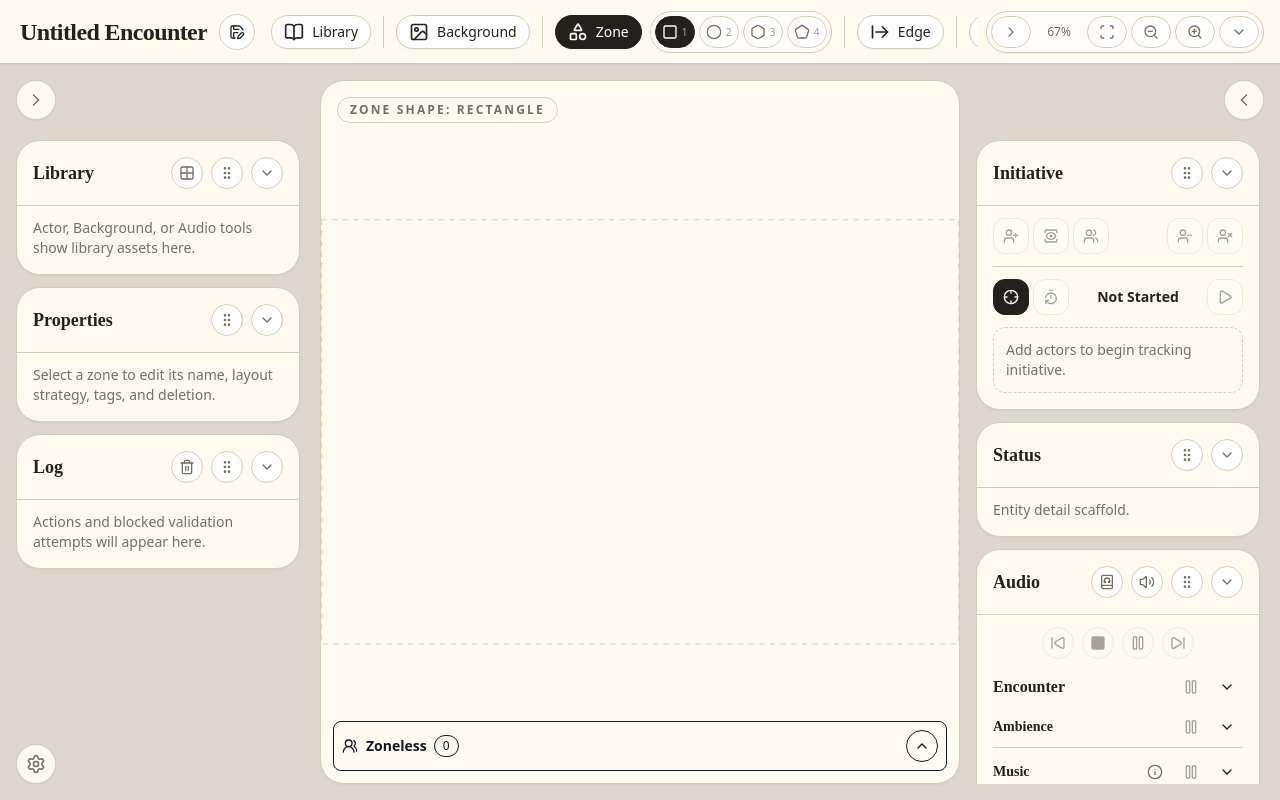
Scenario: LibraryPanel › hands a double-clicked token from the modal to the focused Actor library panel
Click the button "Library": point(321, 32) [271, 14, 371, 48]
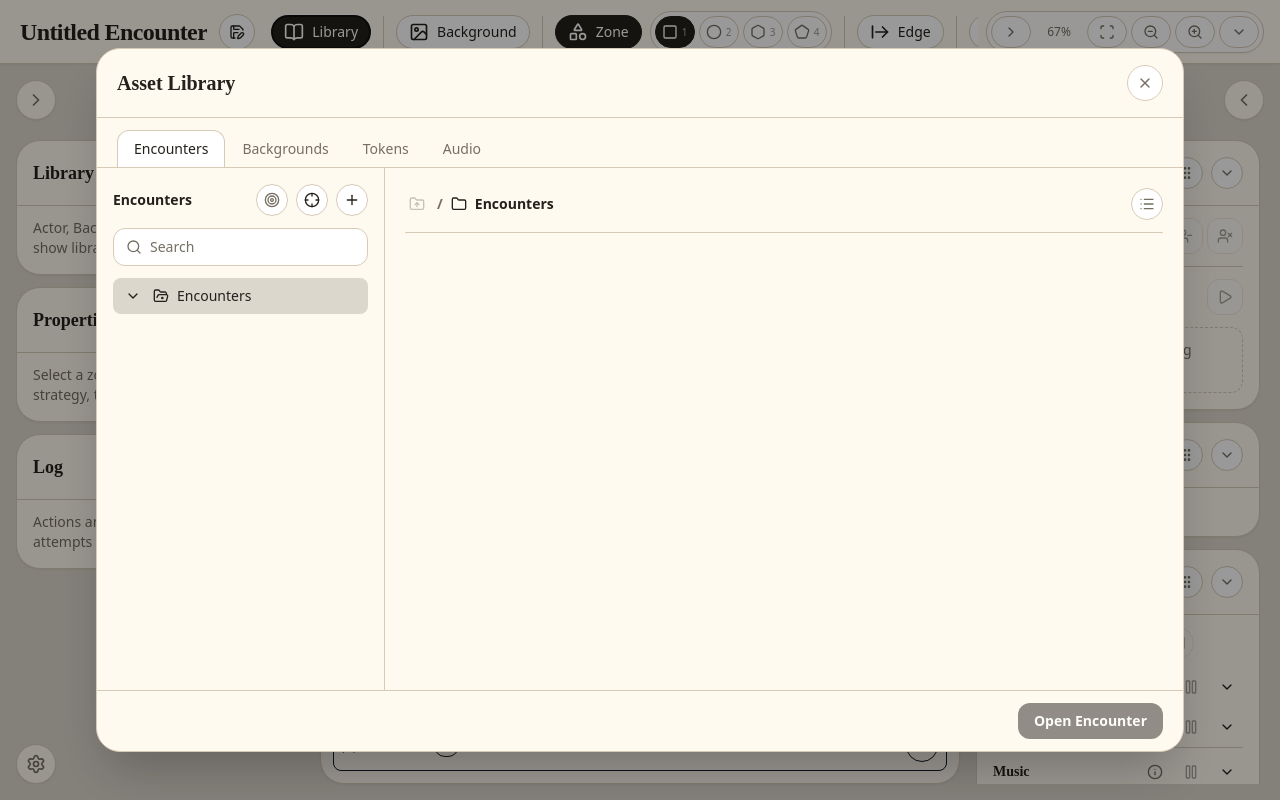
Click the tab "Tokens": point(386, 148) [346, 130, 426, 167]
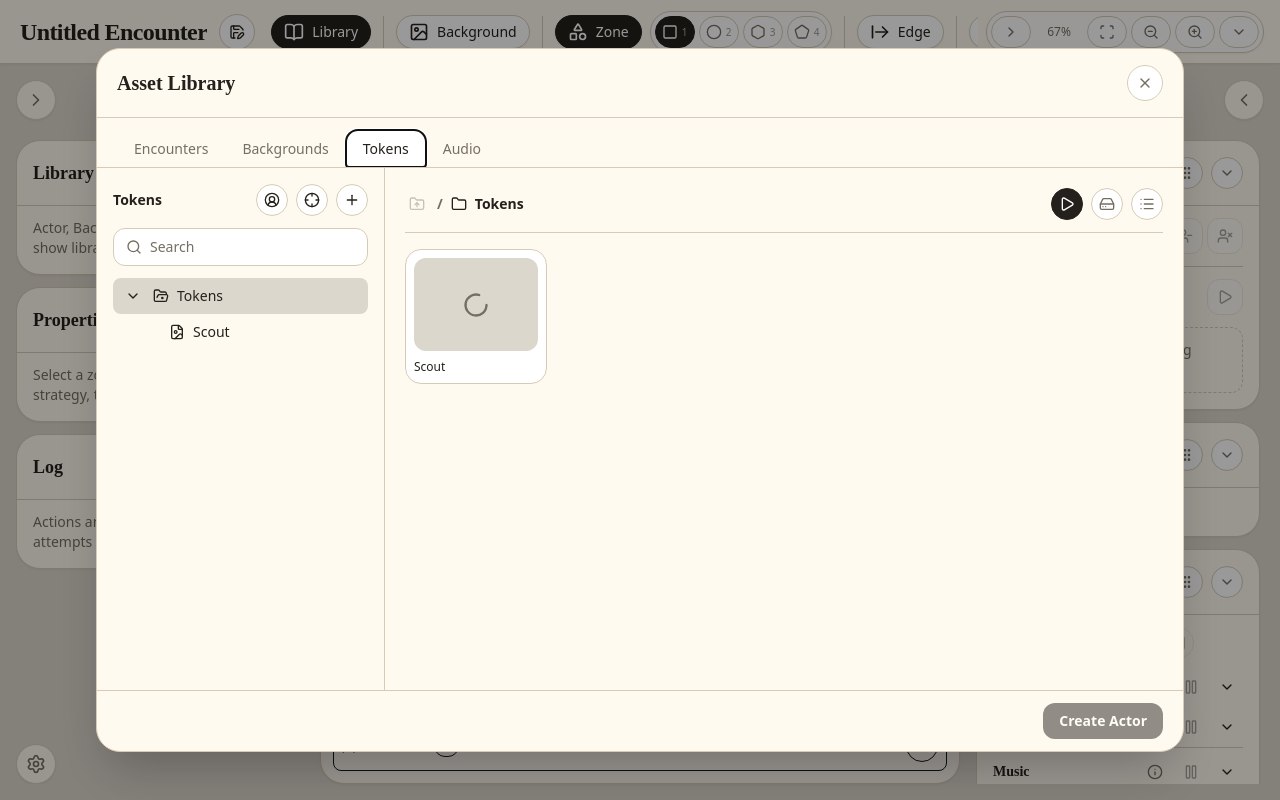
Double-click the button "Scout": point(476, 316) [405, 249, 547, 384]
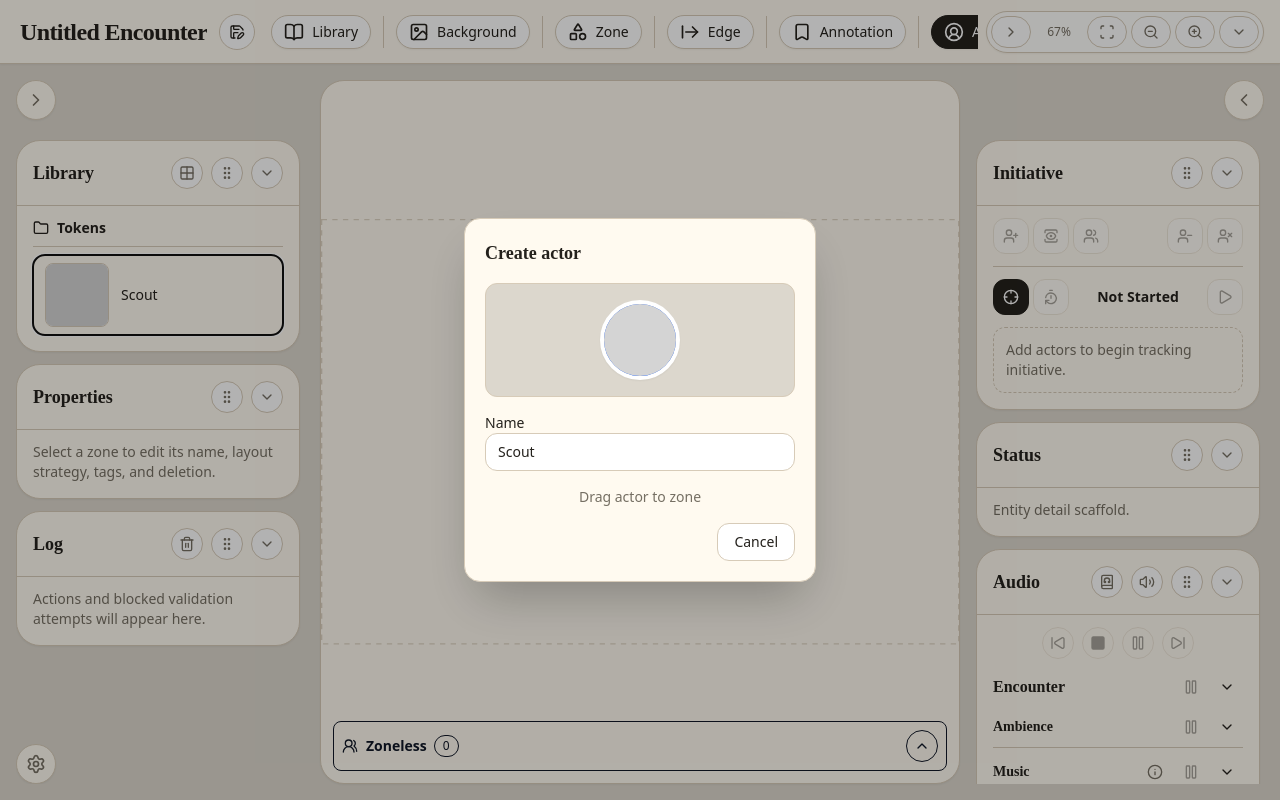
Result: the heading "Asset Library" is gone
Result: the element named "Current library folder" reads "Tokens" at [57, 218, 106, 237]
